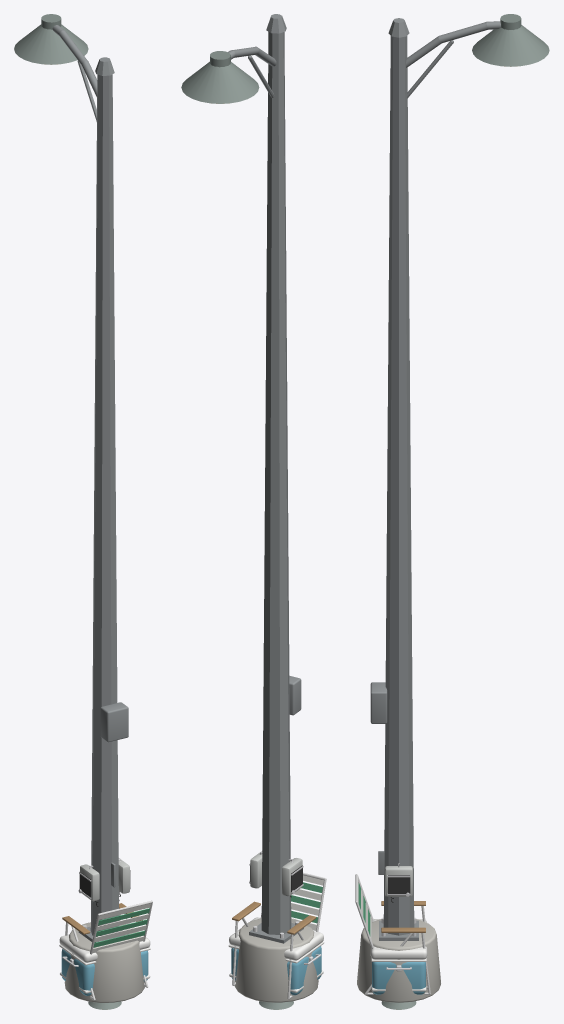
Rendered from props.glb.
3 views of the same model, side by side, from view 1: azimuth 30°, elevation 25°; view 2: azimuth 150°, elevation 25°; view 3: azimuth 270°, elevation 25° (orthographic). The views are drawn at different scales.
Parts seen in each view (by area): view 1: light_pole, lawn_chair, cooler, speaker_post; view 2: light_pole, lawn_chair, cooler, speaker_post; view 3: light_pole, cooler, lawn_chair, speaker_post.
Part boxes in pixels (x1,y1,x2,y2): light_pole: (14,14,144,1002); lawn_chair: (62,900,152,1000); cooler: (59,923,150,995); speaker_post: (78,858,130,906); light_pole: (181,14,318,1002); lawn_chair: (232,872,326,999); cooler: (228,917,324,995); speaker_post: (249,851,303,897); light_pole: (357,14,549,1002); cooler: (370,919,427,994); lawn_chair: (355,874,430,994); speaker_post: (385,863,412,902).
Size of the model in its own units: 0.7556 by 9.23 by 1.65.
